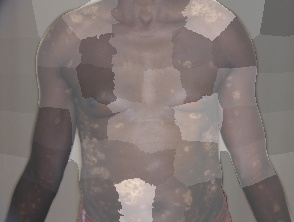vitiligo: (72, 88, 222, 220), (57, 1, 110, 43), (184, 0, 237, 31)
